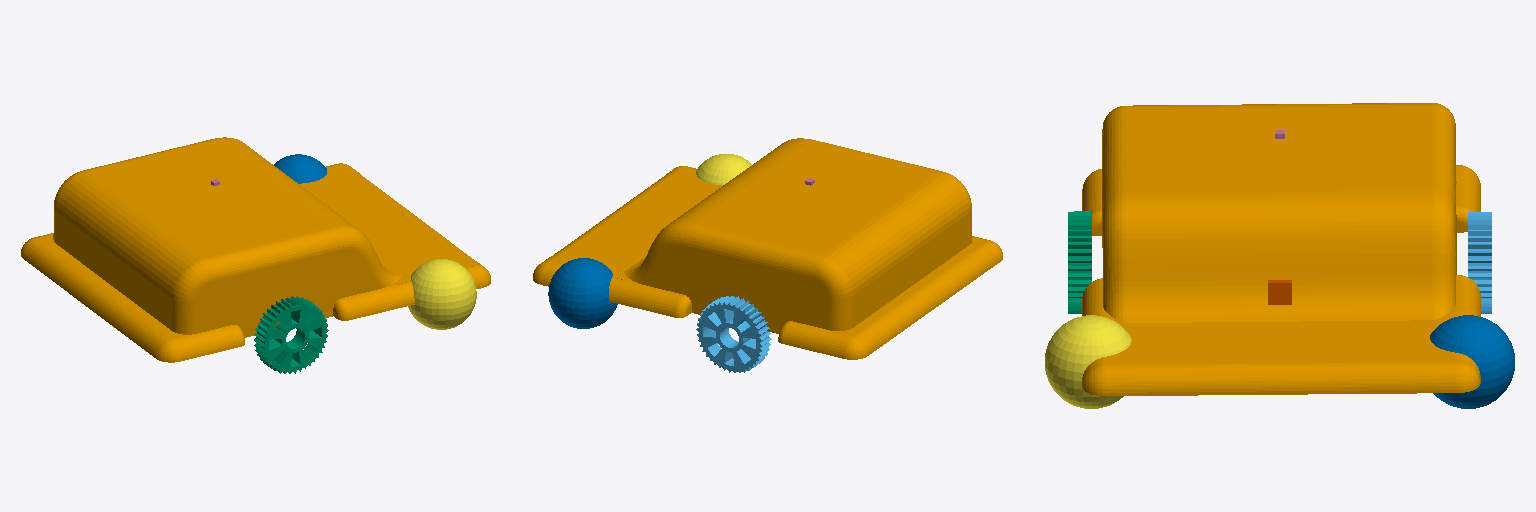
The robot description file, URDF, robot "mower":
<?xml version='1.0'?>

<robot  name="mower">
  <link name="base_link">
    <inertial>
      <origin xyz="0.1 -.305 0" rpy="0 0 0" />
      <mass value="13.745" />
      <inertia ixx="2.956" ixy="1.956" ixz="-0.553" iyy="3.169" iyz="-0.616" izz="5.583" />
    </inertial>
    <visual>
      <origin xyz="0.005 -.305 0" rpy="0 0 0" />
      <geometry>
        <mesh filename="package://mower_description/meshes/lawn_mower.STL" />
      </geometry>
      <material name="orange"/>
    </visual>
    <collision>
      <origin xyz="0.005 -.305 0" rpy="0 0 0" />
      <geometry>
        <mesh filename="package://mower_description/meshes/lawn_mower.STL" />
      </geometry>
    </collision>
  </link>

  <link name="wheel_right">
    <inertial>
      <origin xyz="0 0 0" rpy="0 0 0" />
      <mass value="5" />
      <inertia ixx="0" ixy="0" ixz="0" iyy="0" iyz="0" izz="0" />
    </inertial>
    <visual>
      <origin xyz="-0.1095 .4 -0.1095" rpy="0 0 0" />
      <geometry>
        <mesh filename="package://mower_description/meshes/wheel.STL" />
      </geometry>
      <material name="black"/>
    </visual>
    <collision>
      <origin xyz="0 .4 0" rpy="1.5708 0 0" />
      <geometry>
        <cylinder radius="0.1" length="0.05"/>
      </geometry>
      <surface>
        <friction>
          <ode>
            <mu>1000000</mu>
            <mu2>1000000</mu2>
            <slip1>0</slip1>
            <slip2>0</slip2>
          </ode>
        </friction>
      </surface>
    </collision>
  </link>

  <link name="wheel_left">
    <inertial>
      <origin xyz="0.1095 0.075 -0.1095" rpy="0 0 0" />
      <mass value="5" />
      <inertia ixx="0" ixy="0" ixz="0" iyy="0" iyz="0" izz="0" />
    </inertial>
    <visual>
      <origin xyz="0.1095 -.4 -0.1095" rpy="0 0 3.1417" />
      <geometry>
        <mesh filename="package://mower_description/meshes/wheel.STL" />
      </geometry>
      <material name="black"/>
    </visual>
    <collision>
      <origin xyz="0 -.4 0" rpy="1.5708 0 0" />
      <geometry>
        <cylinder radius="0.1" length="0.05"/>
      </geometry>
      <surface>
        <friction>
          <ode>
            <mu>1000000</mu>
            <mu2>1000000</mu2>
            <slip1>0</slip1>
            <slip2>0</slip2>
          </ode>
        </friction>
      </surface>
    </collision>
  </link>

  <link name="caster_right">
    <inertial>
      <origin xyz="0 0 0" rpy="0 0 0" />
      <mass value="5" />
      <inertia ixx="0" ixy="0" ixz="0" iyy="0" iyz="0" izz="0" />
    </inertial>
    <collision>
      <origin xyz="0 0 0" rpy=" 0 0 0"/>
      <geometry>
        <sphere radius="0.1"/>
      </geometry>
      <surface>
        <friction>
          <ode>
            <mu>0</mu>
            <mu2>0</mu2>
            <slip1>1.0</slip1>
            <slip2>1.0</slip2>
          </ode>
        </friction>
      </surface>
    </collision>
    <visual>
      <origin xyz="0 0 0" rpy=" 0 0 0"/>
      <geometry>
        <sphere radius="0.1"/>
      </geometry>
    </visual>
  </link>

 <link name="caster_left">
    <inertial>
      <origin xyz="0 0 0" rpy="0 0 0" />
      <mass value="5" />
      <inertia ixx="0" ixy="0" ixz="0" iyy="0" iyz="0" izz="0" />
    </inertial>
    <collision>
      <origin xyz="0 0 0" rpy=" 0 0 0"/>
      <geometry>
        <sphere radius="0.1"/>
      </geometry>
      <surface>
        <friction>
          <ode>
            <mu>0</mu>
            <mu2>0</mu2>
            <slip1>1.0</slip1>
            <slip2>1.0</slip2>
          </ode>
        </friction>
      </surface>
    </collision>
    <visual>
      <origin xyz="0 0 0" rpy=" 0 0 0"/>
      <geometry>
        <sphere radius="0.1"/>
      </geometry>
    </visual>
  </link>

  <joint name="base_to_wheel_left" type="continuous">
    <origin xyz="0 0 0" rpy="0 0 0" />
    <parent link="base_link" />
    <child link="wheel_left" />
    <axis xyz="0 1 0" />
    <limit effort="10000" velocity="1000"/>
    <joint_properties damping="1.0" friction="1.0"/>
  </joint>

  <joint name="base_to_wheel_right" type="continuous">
    <origin xyz="0 0 0" rpy="0 0 0" />
    <parent link="base_link" />
    <child link="wheel_right" />
    <axis xyz="0 1 0" />
    <limit effort="10000" velocity="1000"/>
    <joint_properties damping="1.0" friction="1.0"/>
  </joint>

  <joint name="base_to_caster_left" type="continuous">
    <origin xyz="0.5 0.4 0" rpy="0 0 0" />
    <parent link="base_link" />
    <child link="caster_left" />
    <axis xyz="0 1 0" />
  </joint>

  <joint name="base_to_caster_right" type="continuous">
    <origin xyz="0.5 -0.4 0" rpy="0 0 0" />
    <parent link="base_link" />
    <child link="caster_right" />
    <axis xyz="0 1 0" />
  </joint>


  <link name="camera">
    <collision>
      <origin xyz="0 0 0" rpy="0 0 3.1417"/>
      <geometry>
        <box size="0.02 0.05 0.05"/>
      </geometry>
    </collision>

    <visual>
      <origin xyz="0 0 0" rpy="0 0 3.1417"/>
      <geometry>
        <box size="0.02 0.05 0.05"/>
      </geometry>
      <material name="black"/>
    </visual>

    <inertial>
      <mass value=".05" />
      <origin xyz="0 0 0" rpy="0 0 0"/>
      <inertia ixx="1e-6" ixy="0" ixz="0" iyy="1e-6" iyz="0" izz="1e-6" />
    </inertial>
  </link>

  <joint name="camera_joint" type="fixed">
    <origin xyz=".365 0 0.1" rpy="0 -.1 0"/>
    <parent link="base_link"/>
    <child link="camera"/>
  </joint>


  <link name="GPSantenna">
    <collision>
      <origin xyz="0 0 0" rpy="0 0 0"/>
      <geometry>
        <box size="0.02 0.02 0.01"/>
      </geometry>
    </collision>

    <visual>
      <origin xyz="0 0 0" rpy="0 0 0"/>
      <geometry>
        <box size="0.02 0.02 0.01"/>
      </geometry>
      <material name="black"/>
    </visual>

    <inertial>
      <mass value=".05" />
      <origin xyz="0 0 0" rpy="0 0 0"/>
      <inertia ixx="1e-6" ixy="0" ixz="0" iyy="1e-6" iyz="0" izz="1e-6" />
    </inertial>
  </link>

  <joint name="GPSantenna_joint" type="fixed">
    <origin xyz="0 0 0.3" rpy="0 0 0"/>
    <parent link="base_link"/>
    <child link="GPSantenna"/>
  </joint>




 <gazebo>
    <plugin name="differential_drive_controller" filename="libgazebo_ros_diff_drive.so">
      <legacyMode>false</legacyMode>
      <alwaysOn>true</alwaysOn>
      <updateRate>10</updateRate>
      <leftJoint>base_to_wheel_left</leftJoint>
      <rightJoint>base_to_wheel_right</rightJoint>
      <wheelSeparation>0.8</wheelSeparation>
      <wheelDiameter>0.2</wheelDiameter>
      <wheelTorque>10000</wheelTorque>
      <wheelAcceleration>100</wheelAcceleration>
      <publishWheelTF>true</publishWheelTF>
      <publishWheelJointState>true</publishWheelJointState>
      <commandTopic>cmd_vel</commandTopic>
      <odometryTopic>odom</odometryTopic>
      <odometryFrame>odom</odometryFrame>
      <robotBaseFrame>base_link</robotBaseFrame>
    </plugin>
  </gazebo>

  <gazebo>
   <plugin name="gazebo_ros_control" filename="libgazebo_ros_control.so">
      <robotNamespace>/mower</robotNamespace>
   </plugin>
  </gazebo>

  <gazebo reference="camera">
    <material>Gazebo/Black</material>
    <sensor type="camera" name="camera1">
      <update_rate>30.0</update_rate>
      <camera name="head">
        <horizontal_fov>1.3962634</horizontal_fov>
        <image>
          <width>800</width>
          <height>800</height>
          <format>R8G8B8</format>
        </image>
        <clip>
          <near>0.02</near>
          <far>300</far>
        </clip>
      </camera>
      <plugin name="camera_controller" filename="libgazebo_ros_camera.so">
        <alwaysOn>true</alwaysOn>
        <updateRate>0.0</updateRate>
        <cameraName>mower/camera1</cameraName>
        <imageTopicName>image_raw</imageTopicName>
        <cameraInfoTopicName>camera_info</cameraInfoTopicName>
        <frameName>camera</frameName>
        <hackBaseline>0.07</hackBaseline>
        <distortionK1>0.0</distortionK1>
        <distortionK2>0.0</distortionK2>
        <distortionK3>0.0</distortionK3>
        <distortionT1>0.0</distortionT1>
        <distortionT2>0.0</distortionT2>
      </plugin>
    </sensor>
  </gazebo>


  <gazebo>
    <plugin name="novatel_gps_sim" filename="libhector_gazebo_ros_gps.so">
      <alwaysOn>1</alwaysOn>
      <updateRate>10.0</updateRate>
      <bodyName>GPSantenna</bodyName>
      <topicName>fix</topicName>
      <velocityTopicName>fix_velocity</velocityTopicName>
      <drift>0 0 0</drift>
      <gaussianNoise>0.00 0.00 0.00</gaussianNoise>
      <velocityDrift>0 0 0</velocityDrift>
      <velocityGaussianNoise>0.00 0.00 0.00</velocityGaussianNoise>
    </plugin>
</gazebo>



  <gazebo reference="base_link">
      <material>Gazebo/Orange</material>
      <mu1 value="0" />
      <mu2 value="0" />
  </gazebo>
  <gazebo reference="wheel_left">
      <material>Gazebo/White</material>
      <mu1 value="10000.0" />
      <mu2 value="10000.0" />
  </gazebo>
  <gazebo reference="wheel_right">
      <material>Gazebo/White</material>
      <mu1 value="10000.0" />
      <mu2 value="10000.0" />
  </gazebo>
  <gazebo reference="camera">
      <material>Gazebo/Black</material>
  </gazebo>
  <gazebo reference="antenna1">
      <material>Gazebo/Black</material>
  </gazebo>
  <gazebo reference="antenna2">
      <material>Gazebo/Black</material>
  </gazebo>
  <gazebo reference="antenna3">
      <material>Gazebo/Black</material>
  </gazebo>

  <gazebo reference="base_to_wheel_left">
      <mu1 value="1000.0" />
      <mu2 value="1000.0" />
      <kp value="10000.0" />
      <kd value="0.00001" />
      <maxVel value="100.0" />
      <minDepth value="0.0001" />
  </gazebo>    
  <gazebo reference="base_to_wheel_right">
      <mu1 value="1000.0" />
      <mu2 value="1000.0" />
      <kp value="1000.0" />
      <kd value="0.00001" />
      <maxVel value="100.0" />
      <minDepth value="0.0001" />
  </gazebo>


</robot>


--- What the picture shows (computed from the rendered views, not written in the file) ---
The picture shows the robot from 3 angles, left to right: view 1: azimuth 30°, elevation 25°; view 2: azimuth 150°, elevation 25°; view 3: azimuth 270°, elevation 25°; orthographic projection.
Robot: mower — 7 links, 6 joints (4 continuous, 2 fixed); root link base_link; default pose: every joint at zero.
Visible links, largest first — view 1: base_link, wheel_left, caster_right, caster_left; view 2: base_link, wheel_right, caster_left, caster_right; view 3: base_link, caster_right, caster_left, wheel_left, wheel_right, camera.
Boxes of the visible links, left/top/right/bottom form: base_link: left=21, top=137, right=490, bottom=362; wheel_left: left=254, top=296, right=328, bottom=373; caster_right: left=408, top=259, right=476, bottom=329; caster_left: left=274, top=154, right=326, bottom=183; base_link: left=533, top=138, right=1002, bottom=359; wheel_right: left=696, top=296, right=771, bottom=372; caster_left: left=548, top=258, right=617, bottom=328; caster_right: left=696, top=154, right=751, bottom=185; base_link: left=1082, top=103, right=1480, bottom=395; caster_right: left=1045, top=315, right=1131, bottom=408; caster_left: left=1430, top=315, right=1514, bottom=408; wheel_left: left=1068, top=211, right=1091, bottom=313; wheel_right: left=1468, top=212, right=1491, bottom=313; camera: left=1268, top=280, right=1291, bottom=304.
Bounding box of the posed robot: 1.08 × 1 × 0.4134 m (x, y, z).
Meshes: 2 distinct files referenced, 3 mesh visuals loaded (2 binary STL).